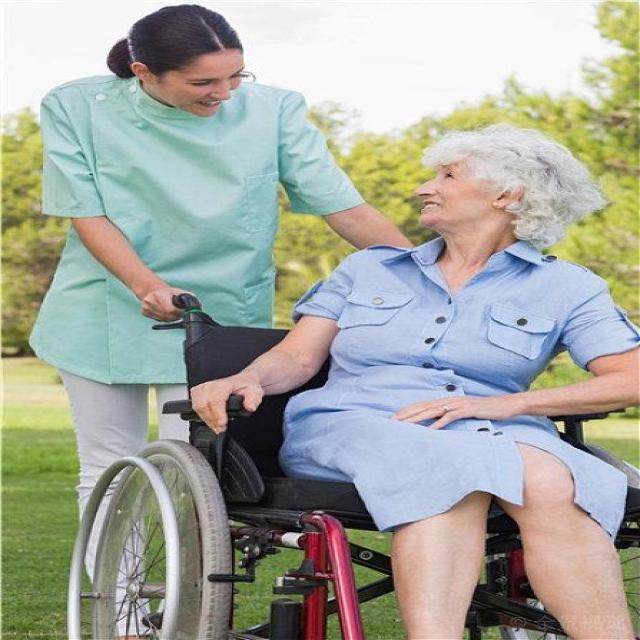wheelchairs: (57, 287, 639, 640)
